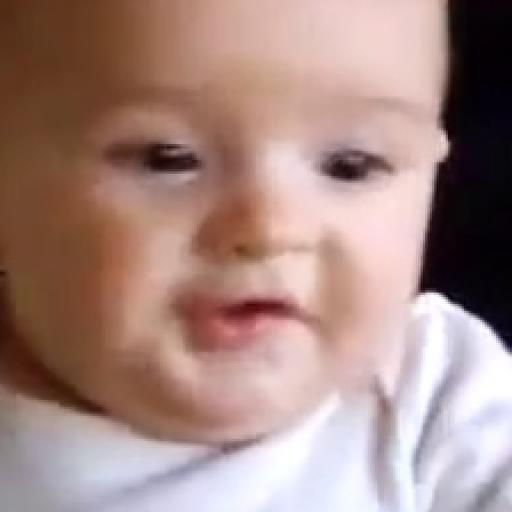Autism: (0, 1, 473, 490)
